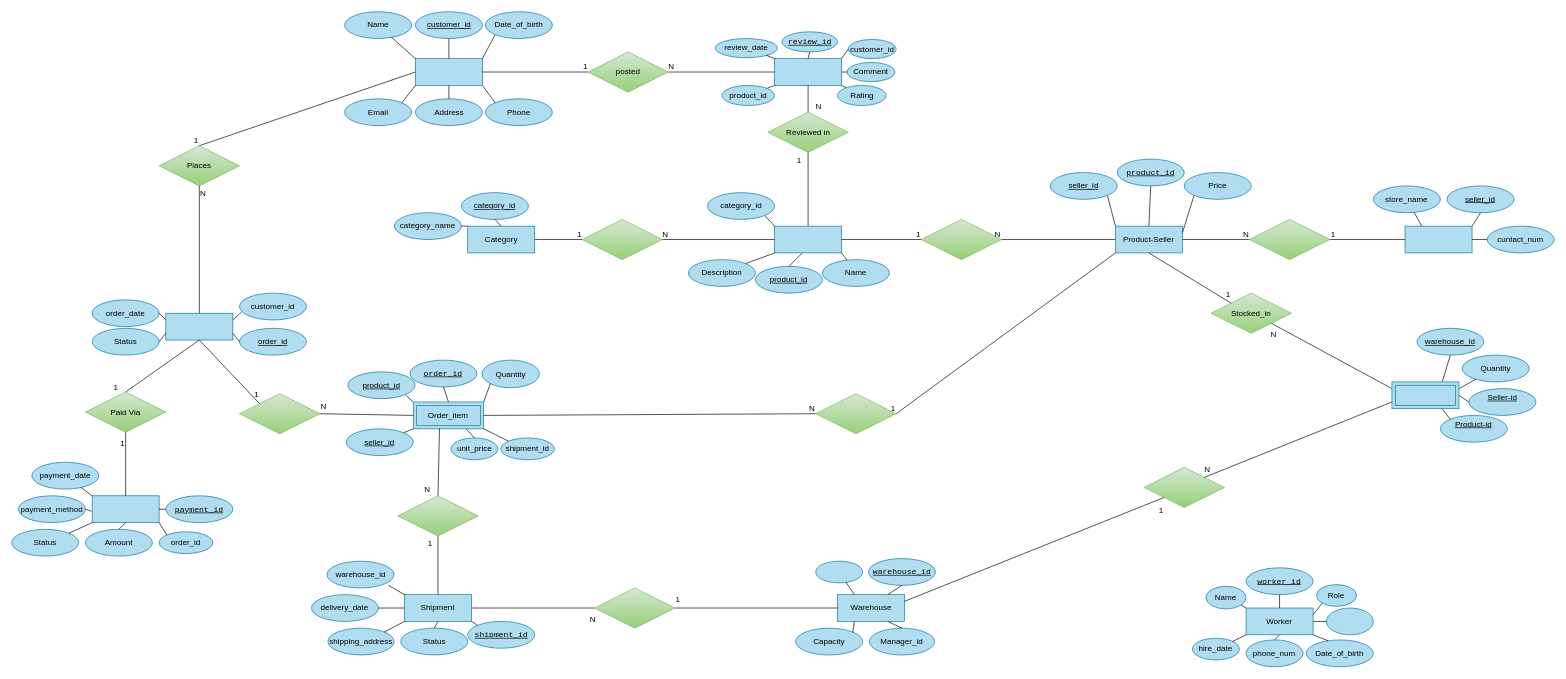
Image size: 1566x679. Some labels were removed from this diagram. Here are the shapes that lost their labels. From the top down, the centre of each, then its label:
At [448,71]: "Customer".
At [808,71]: "Review".
At [621,239]: "categorization".
At [808,239]: "Product".
At [961,239]: "Listed By".
At [1289,239]: "Lists".
At [1438,239]: "Seller".
At [199,326]: "Order".
At [279,413]: "Contains".
At [855,413]: "Ordered Via".
At [1425,395]: "Inventory".
At [1183,487]: "Stores".
At [125,509]: "Payment".
At [437,515]: "Fulfills".
At [839,571]: "Location".
At [634,607]: "Dispatchs".
At [1349,621]: "Salary".
